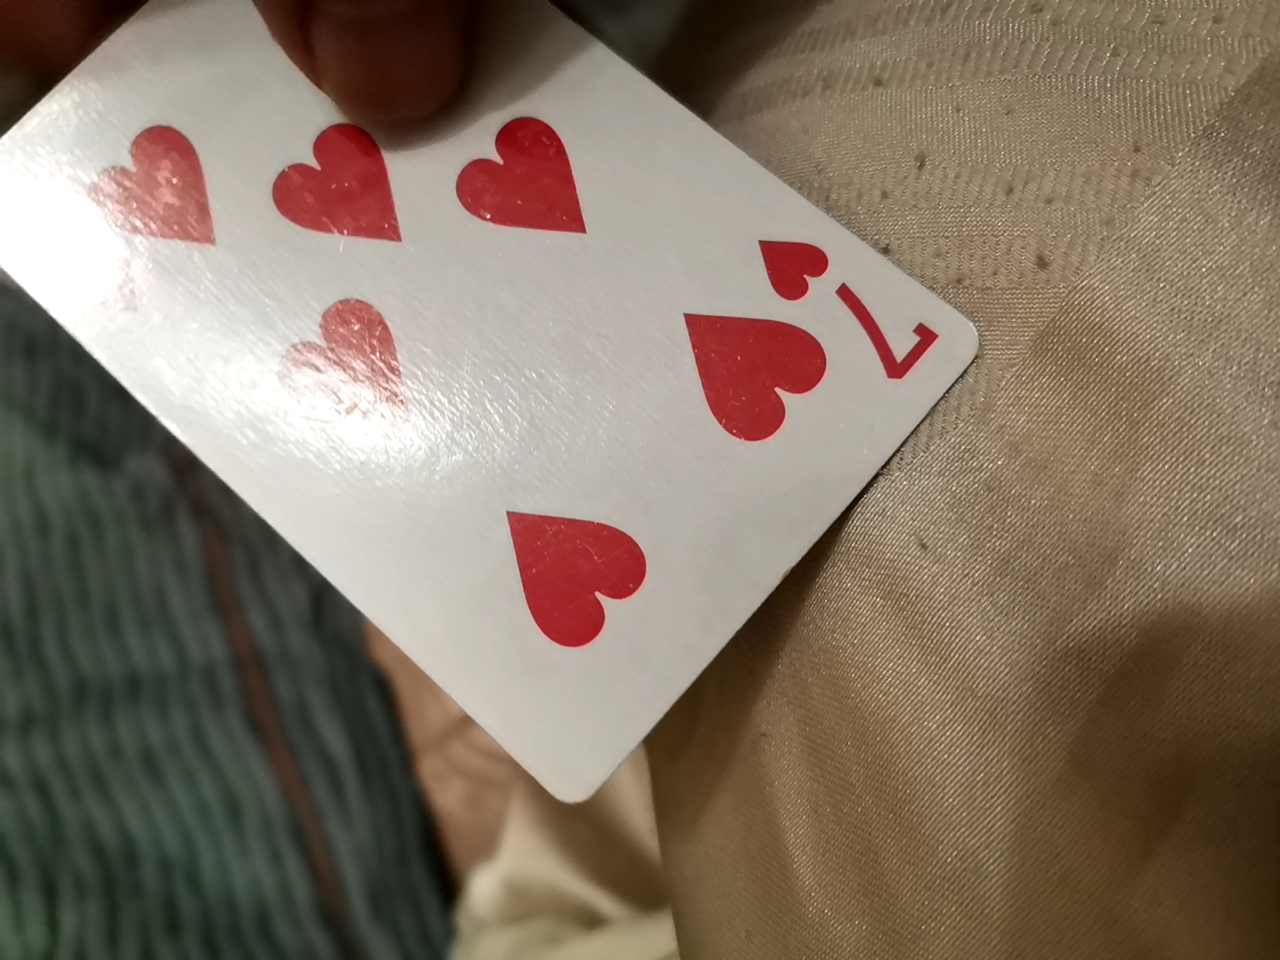hx 7: (11, 14, 988, 822)
